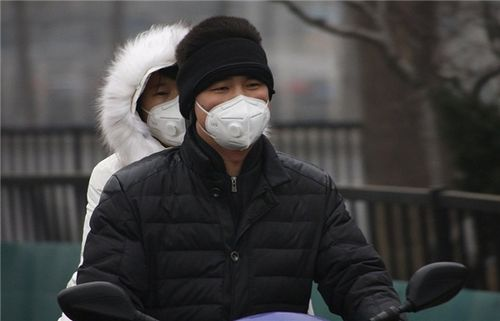mask: (197, 58, 277, 156), (142, 56, 194, 151)
